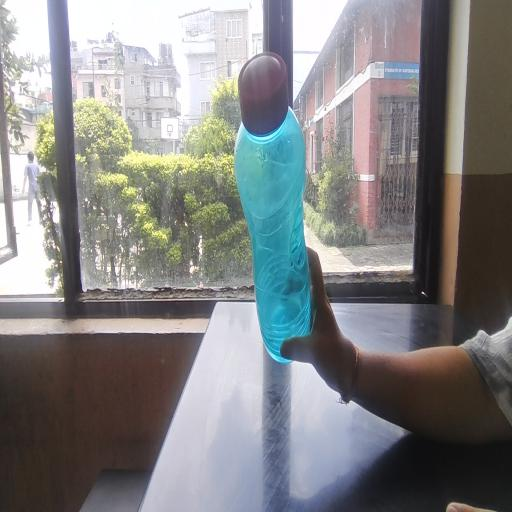Bottle: (211, 66, 331, 363)
